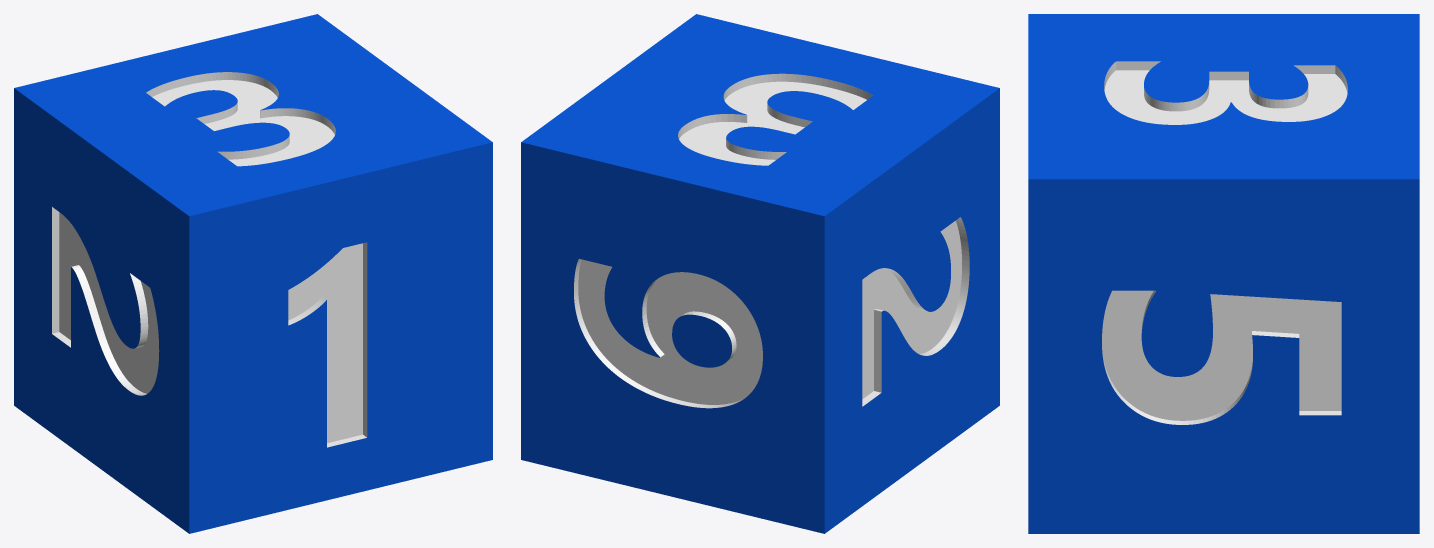
3 renders of one model, left to right at view 1: azimuth 30°, elevation 25°; view 2: azimuth 150°, elevation 25°; view 3: azimuth 270°, elevation 25°, orthographic. The views are drawn at different scales.
Visible parts, largest first — view 1: d6; view 2: d6; view 3: d6.
Boxes of the visible parts, <box> form: d6: <box>14,14,492,533</box>; d6: <box>521,14,999,533</box>; d6: <box>1028,14,1419,533</box>.
Size of the model in its own units: 2 by 2 by 2.
Materials: 1 (1 with a texture image).
